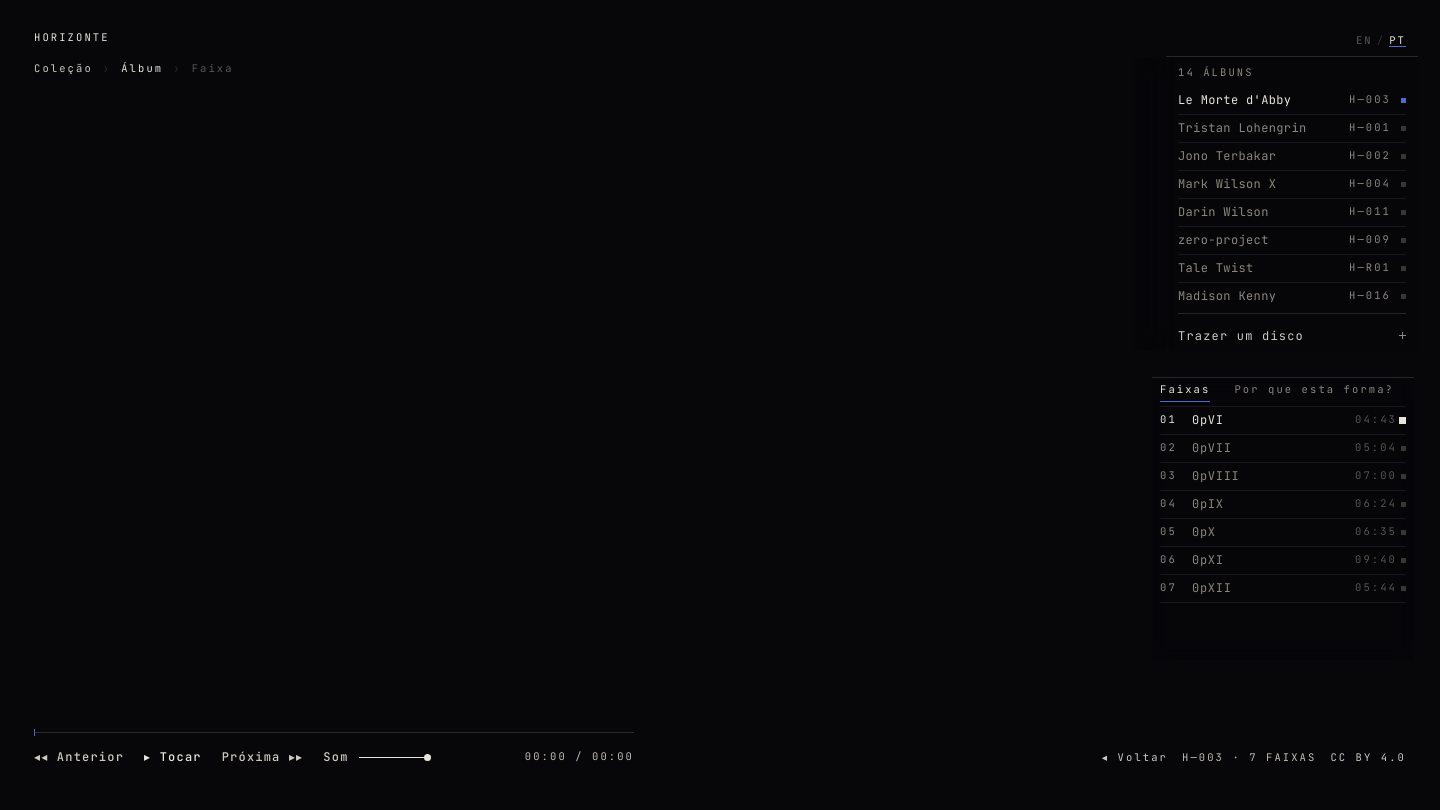
it: room for the longer language › a long experiment wraps inside the panel, with its arrow kept on the last word
This screenshot has width=1440, height=810.
Click the tab "Por que esta forma?": coordinates (1314, 390) [1234, 378, 1394, 402]
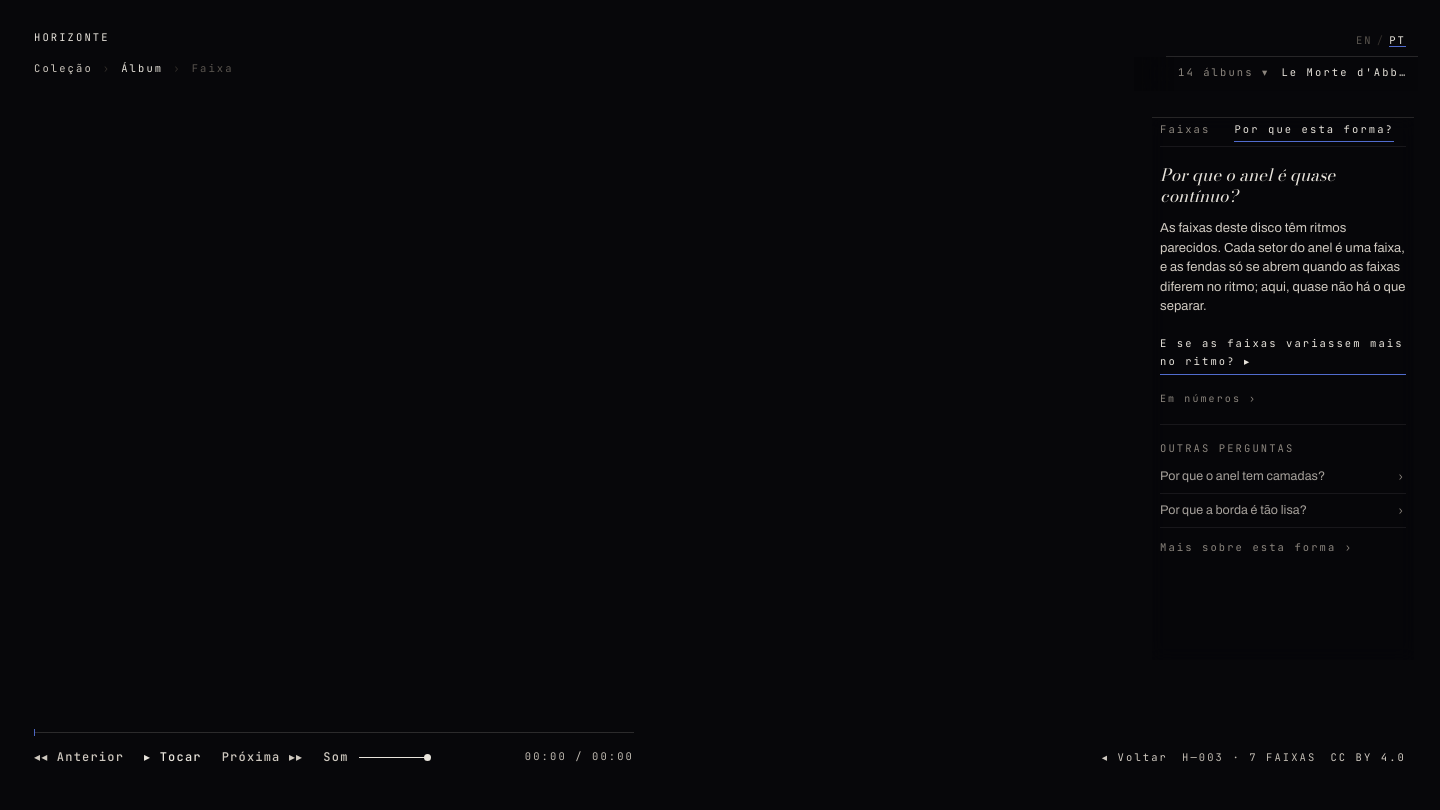
Check: the text with class "whitespace-nowrap" reads "ritmo? ▸", box [1185, 354, 1251, 368]
